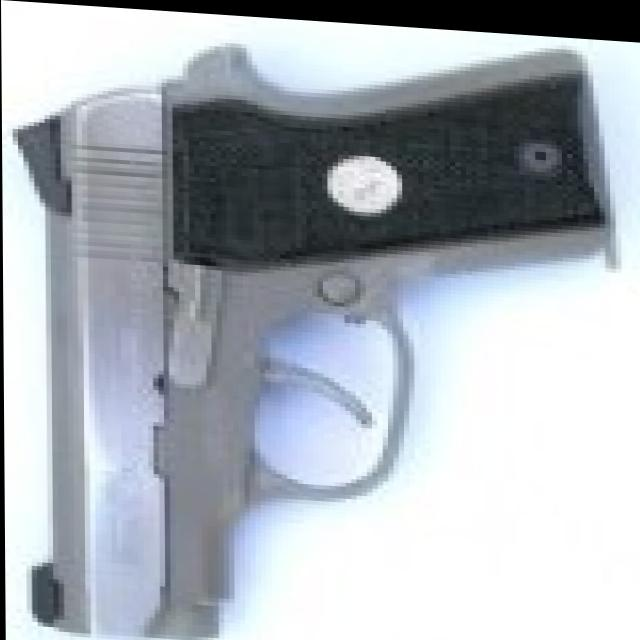handgun: (1, 20, 606, 640)
